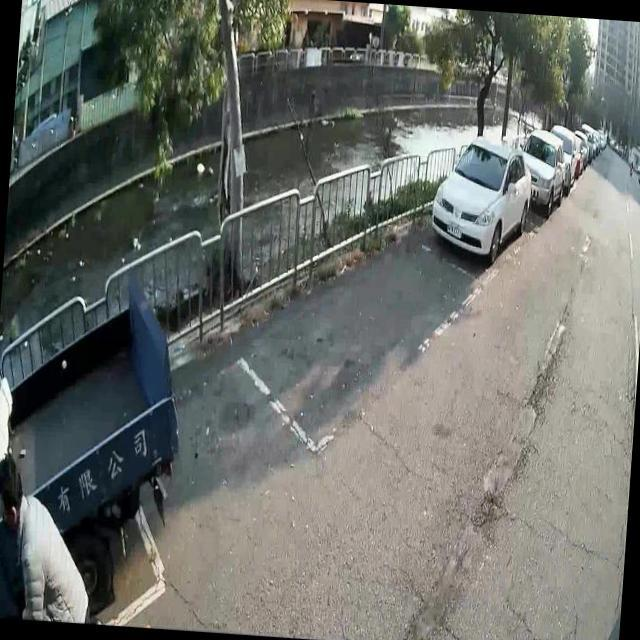person: (0, 444, 100, 623)
